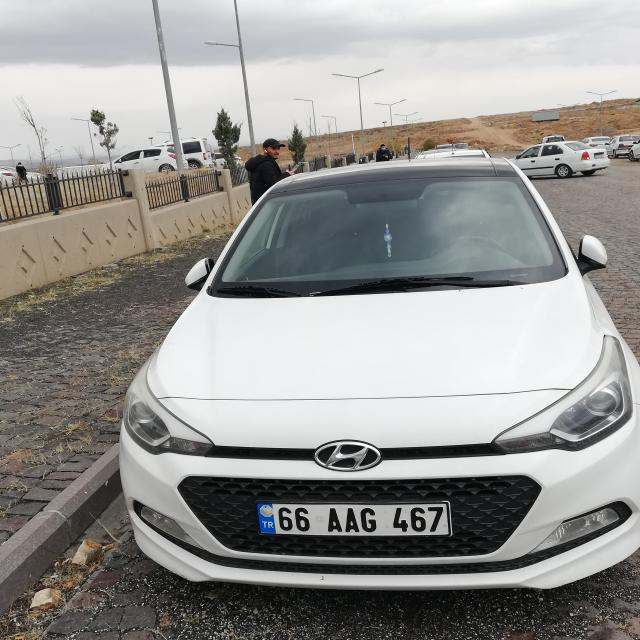license_plate: (255, 500, 450, 537)
